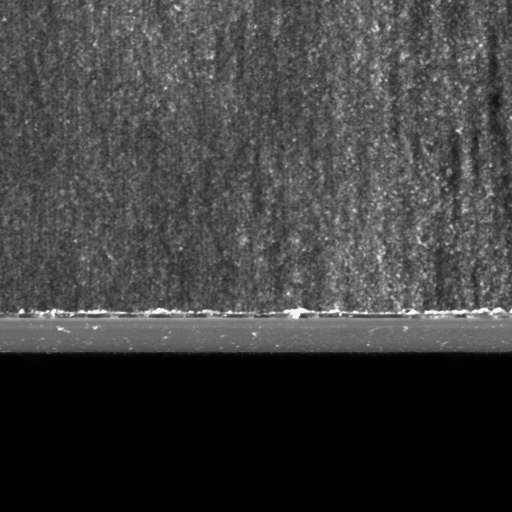jiaofeng: (3, 310, 422, 329)
